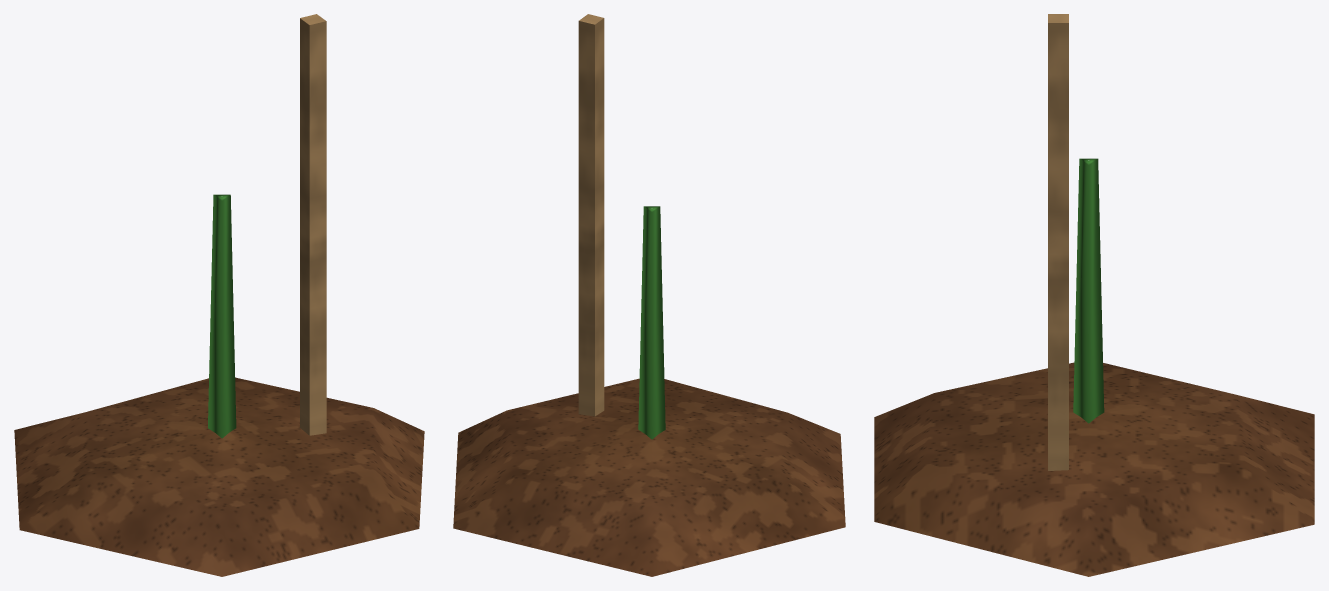
File: plant-tomato-3-far.glb
The picture shows the model from 3 angles, left to right: view 1: azimuth 30°, elevation 25°; view 2: azimuth 150°, elevation 25°; view 3: azimuth 270°, elevation 25°; orthographic projection. The views are drawn at different scales.
Visible parts, largest first — view 1: plant-tomato-3-far; view 2: plant-tomato-3-far; view 3: plant-tomato-3-far.
Part boxes in pixels (<box>): plant-tomato-3-far: <box>14,14,424,576</box>; plant-tomato-3-far: <box>453,14,845,576</box>; plant-tomato-3-far: <box>874,14,1314,576</box>.
Bounding box in the file's own units: 0.84 × 0.8967 × 0.7275.
4 materials, 2 textured.
